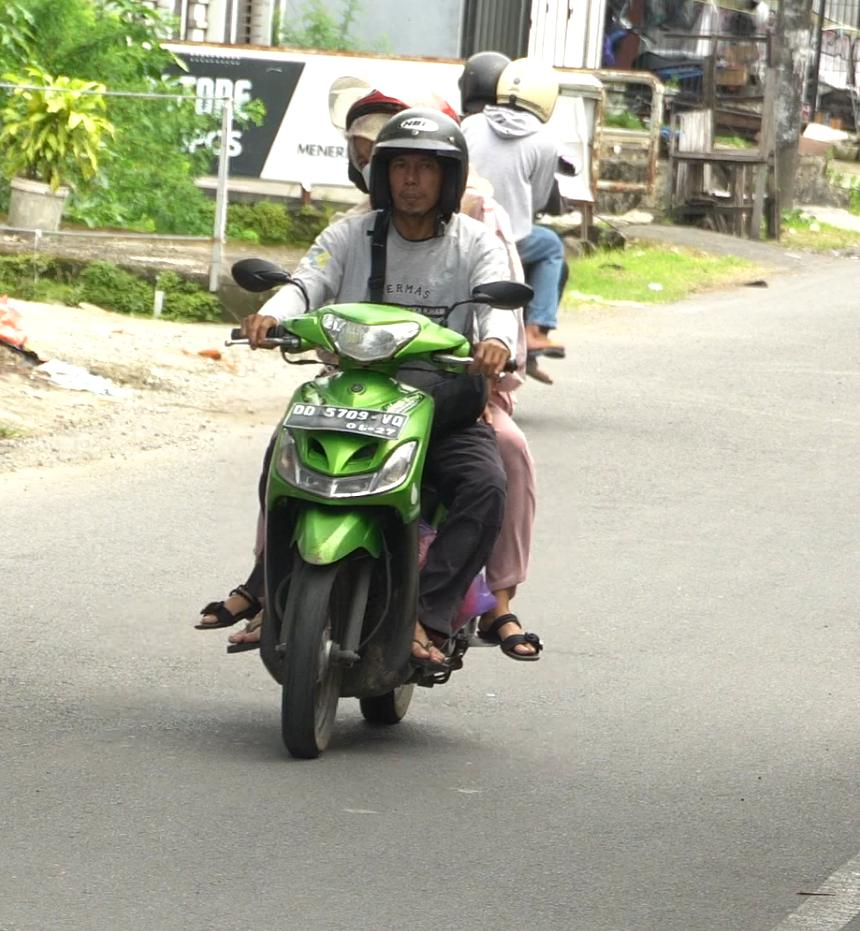number-plate: (281, 398, 412, 441)
